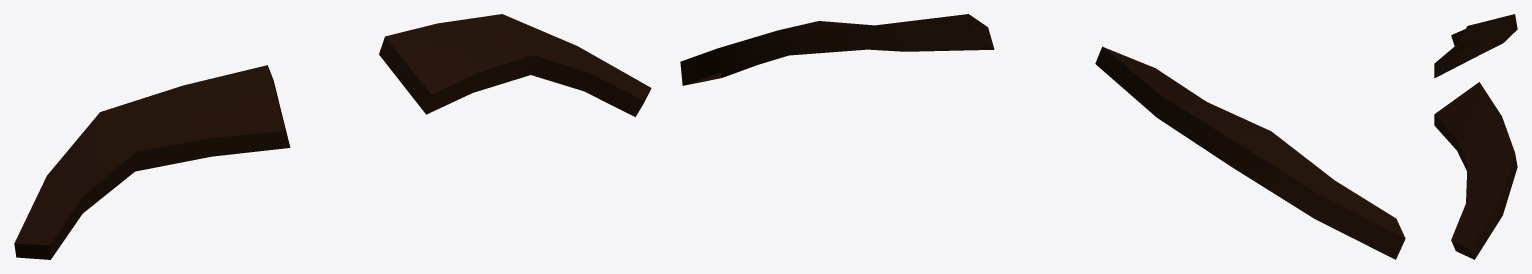
Rendered from Brow 10.FBX.
3 views of the same model, side by side, from view 1: azimuth 30°, elevation 25°; view 2: azimuth 150°, elevation 25°; view 3: azimuth 270°, elevation 25° (orthographic). The views are drawn at different scales.
Visible parts, largest first — view 1: Brow 10; view 2: Brow 10; view 3: Brow 10.
Boxes of the visible parts, bbox=[...] form: Brow 10: bbox=[14, 14, 651, 259]; Brow 10: bbox=[680, 14, 1405, 259]; Brow 10: bbox=[1434, 14, 1517, 259].
Bounding box in the file's own units: 22.99 × 3.69 × 4.41.
